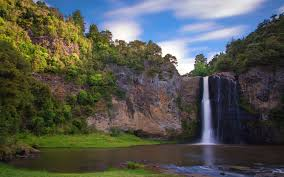mountain: (6, 5, 284, 150)
waterfall: (169, 71, 240, 162)
